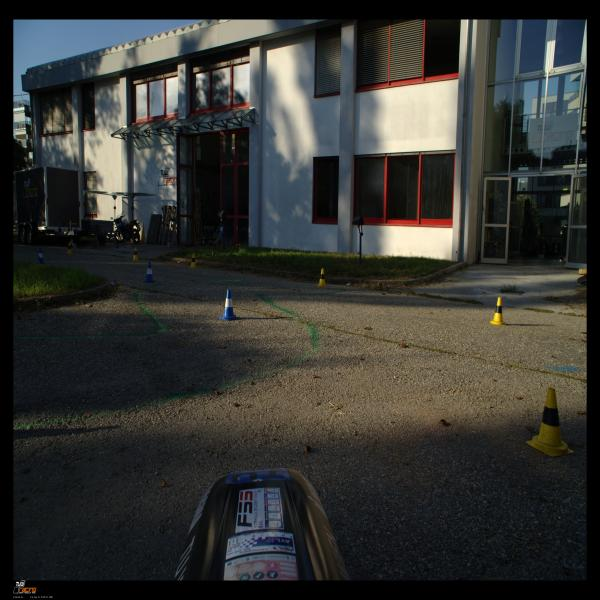blue_cone: (218, 289, 239, 321), (144, 262, 156, 282), (38, 248, 45, 264)
yellow_cone: (526, 388, 574, 456), (490, 297, 506, 326), (317, 269, 327, 287), (189, 254, 197, 268), (66, 242, 73, 255), (132, 248, 139, 260)
